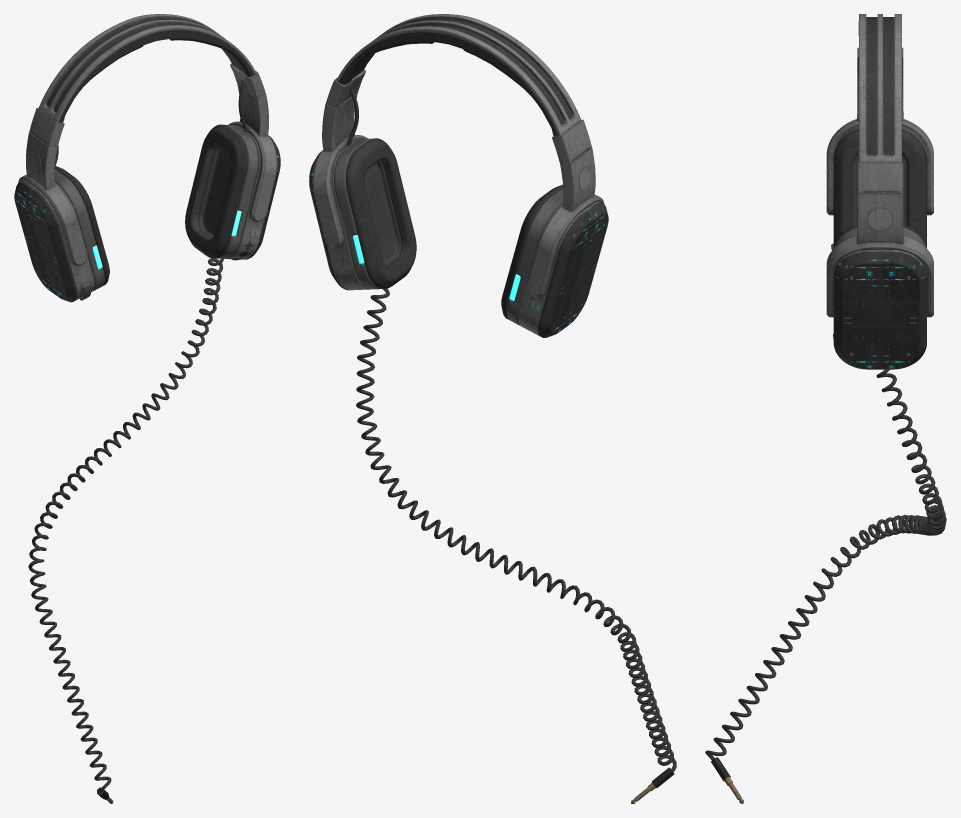
File: headphones.glb
3 renders of one model, left to right at view 1: azimuth 30°, elevation 25°; view 2: azimuth 150°, elevation 25°; view 3: azimuth 270°, elevation 25°, orthographic. The views are drawn at different scales.
Parts seen in each view (by area): view 1: Headphones.002_low, Headphones.014_low, Headphones_low, Headphones.004_low, Headphones.003_low, Headphones.001_low, Headphones.012_low, Headphones.006_low, Headphones.005_low; view 2: Headphones.002_low, Headphones.014_low, Headphones_low, Headphones.004_low, Headphones.003_low, Headphones.001_low, Headphones.012_low, Headphones.006_low, Headphones.005_low; view 3: Headphones.003_low, Headphones.014_low, Headphones.002_low, Headphones_low, Headphones.001_low, Headphones.012_low, Headphones.005_low, Headphones.004_low, Headphones.011_low.
Boxes of the visible parts, bbox=[...] form: Headphones.002_low: bbox=[18, 84, 277, 265]; Headphones.014_low: bbox=[28, 258, 223, 793]; Headphones_low: bbox=[54, 124, 247, 285]; Headphones.004_low: bbox=[54, 124, 258, 290]; Headphones.003_low: bbox=[14, 136, 280, 302]; Headphones.001_low: bbox=[32, 14, 256, 144]; Headphones.012_low: bbox=[46, 18, 254, 122]; Headphones.006_low: bbox=[21, 125, 264, 300]; Headphones.005_low: bbox=[29, 63, 265, 146]; Headphones.002_low: bbox=[312, 93, 604, 297]; Headphones.014_low: bbox=[356, 288, 676, 771]; Headphones_low: bbox=[346, 138, 563, 319]; Headphones.004_low: bbox=[334, 138, 563, 325]; Headphones.003_low: bbox=[309, 150, 608, 337]; Headphones.001_low: bbox=[336, 14, 588, 161]; Headphones.012_low: bbox=[339, 19, 571, 136]; Headphones.006_low: bbox=[327, 139, 601, 336]; Headphones.005_low: bbox=[326, 69, 591, 163]; Headphones.003_low: bbox=[833, 251, 926, 369]; Headphones.014_low: bbox=[705, 369, 946, 759]; Headphones.002_low: bbox=[826, 77, 933, 317]; Headphones_low: bbox=[833, 129, 926, 248]; Headphones.001_low: bbox=[858, 14, 901, 193]; Headphones.012_low: bbox=[866, 17, 894, 154]; Headphones.005_low: bbox=[857, 47, 903, 193]; Headphones.004_low: bbox=[833, 126, 926, 247]; Headphones.011_low: bbox=[867, 208, 892, 230].
Size of the model in its own units: 0.261 by 0.6974 by 0.1837.
Materials: 1 (1 with a texture image).
